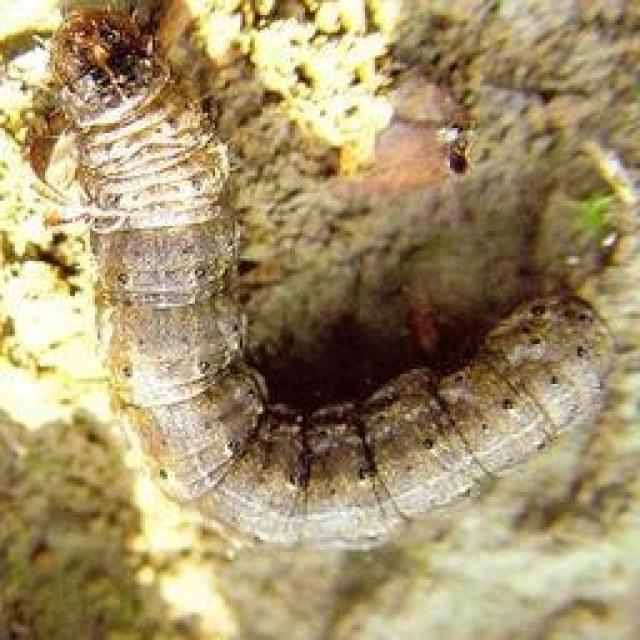black cutworm: (22, 9, 615, 561)
